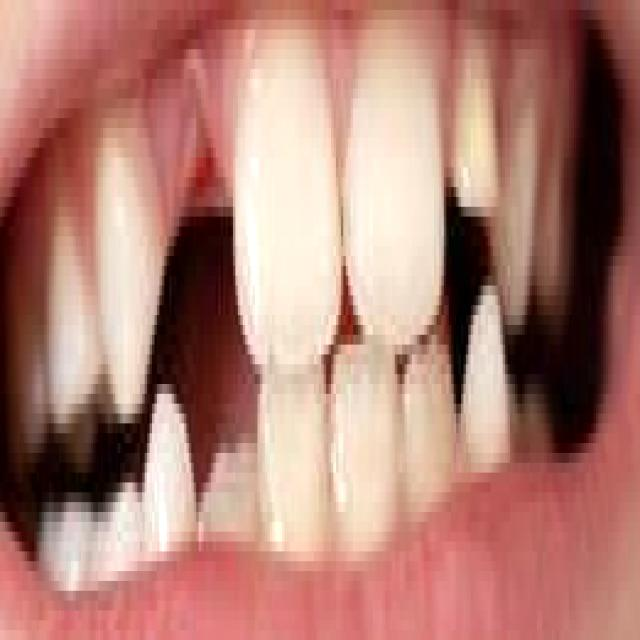hypodontia: (130, 60, 260, 374)
